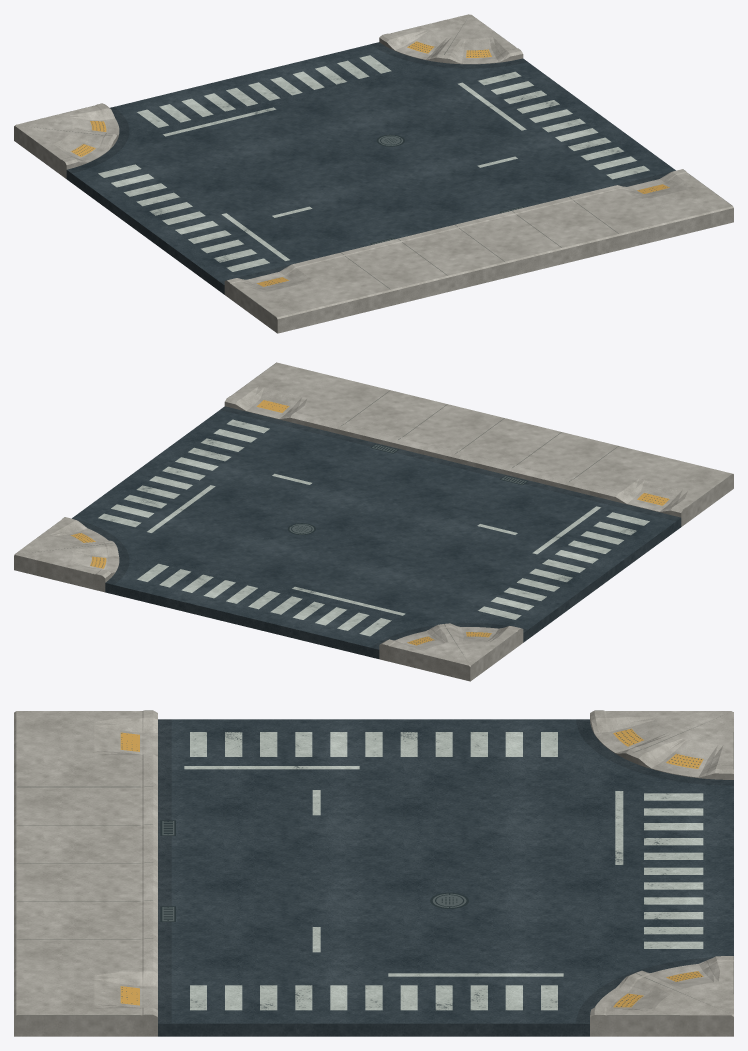
The model's file is RoadTee.glb.
3 renders of one model, top to bottom at view 1: azimuth 30°, elevation 25°; view 2: azimuth 150°, elevation 25°; view 3: azimuth 270°, elevation 25°, orthographic. The views are drawn at different scales.
Parts seen in each view (by area): view 1: SM_RoadTee-col, SM_RoadTee_Details; view 2: SM_RoadTee-col, SM_RoadTee_Details; view 3: SM_RoadTee-col, SM_RoadTee_Details.
Boxes of the visible parts, x1,y1,x2,y2 form: SM_RoadTee-col: (14, 14, 733, 333); SM_RoadTee_Details: (34, 23, 732, 316); SM_RoadTee-col: (14, 362, 733, 681); SM_RoadTee_Details: (32, 362, 731, 654); SM_RoadTee-col: (14, 710, 733, 1036); SM_RoadTee_Details: (17, 710, 733, 1023).
Bounding box in the file's own units: 12 × 0.4025 × 12.
8 materials, 4 textured.
